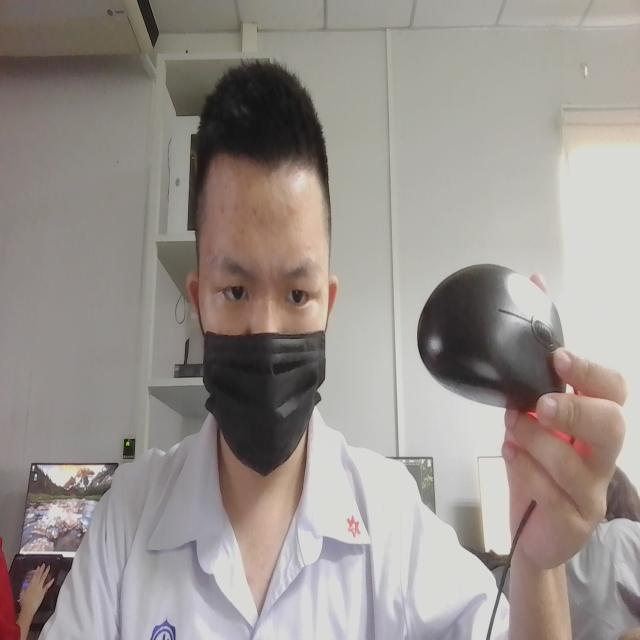mouse: (394, 222, 569, 431)
